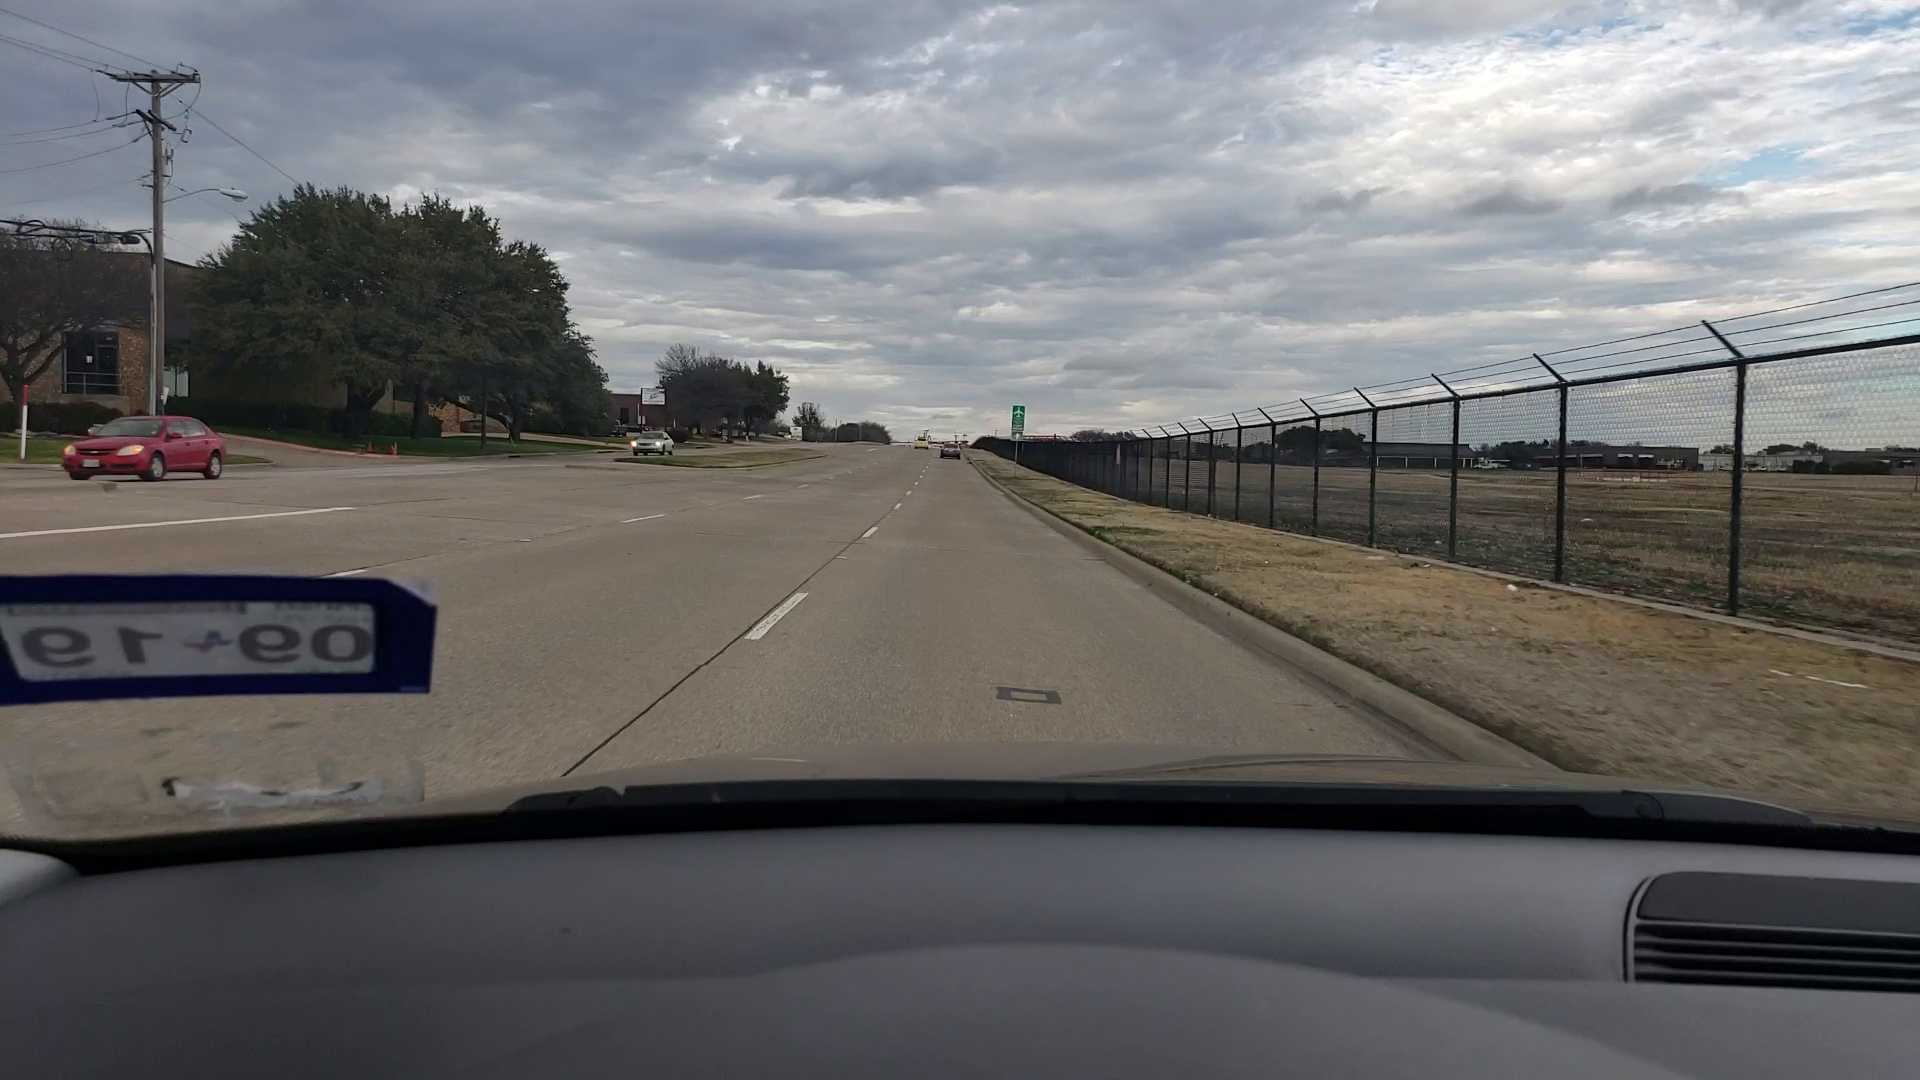car: (63, 411, 225, 485), (632, 429, 673, 459), (940, 440, 961, 459), (914, 435, 928, 448)
